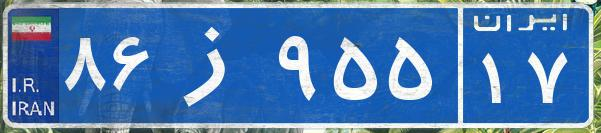1: (475, 38, 525, 113)
5: (385, 28, 445, 110), (330, 28, 385, 110)
6: (110, 28, 158, 105)
7: (525, 38, 570, 115)
8: (57, 26, 110, 107)
9: (273, 28, 330, 110)
ز: (158, 15, 273, 115)
